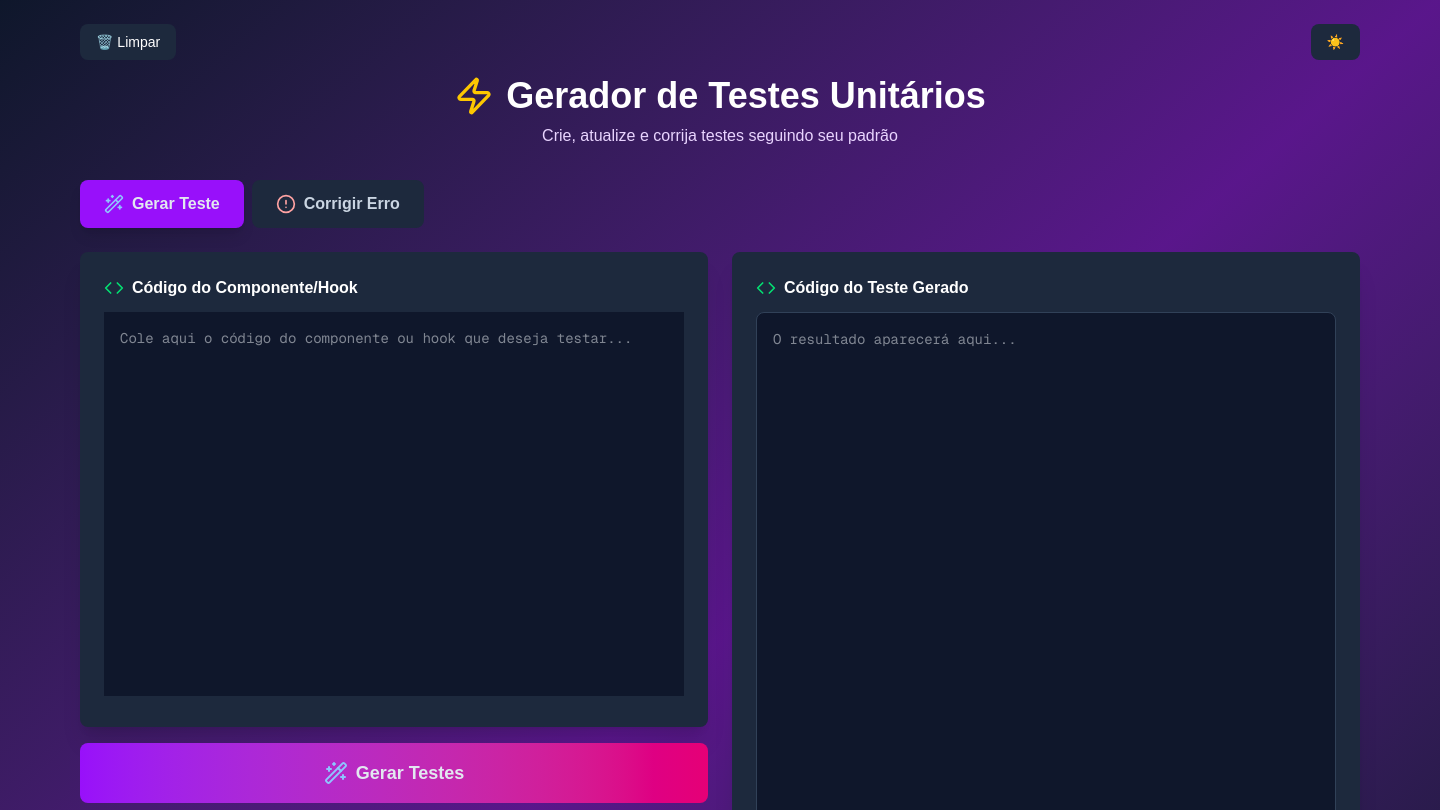
Scenario: TestGeneratorTool › should toggle between tabs
Click the button with test id "tab-fix".
click(338, 204)  # box 252,180 -> 424,228
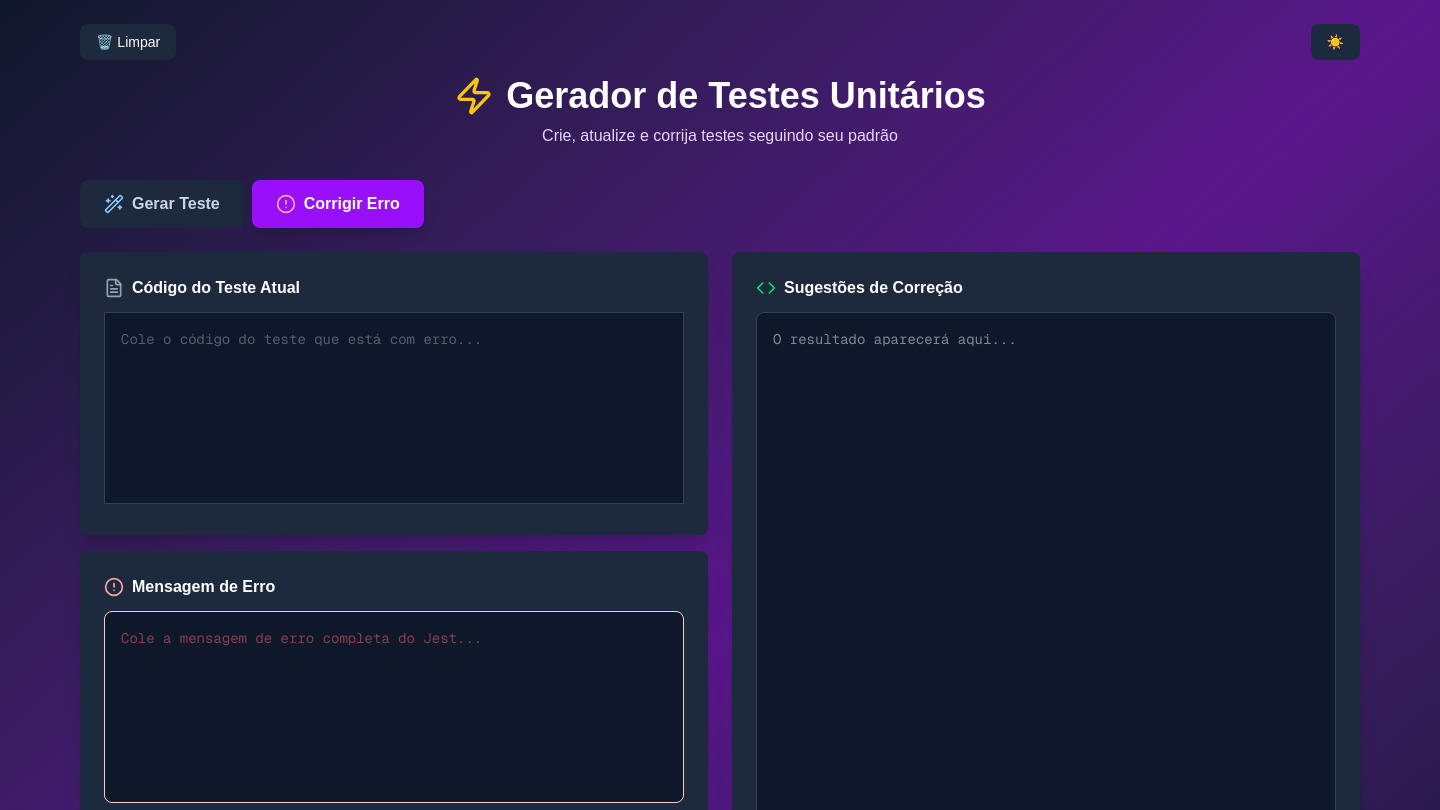
Result: the text box with test id "test-code-input" is shown at 104,312 -> 684,504
